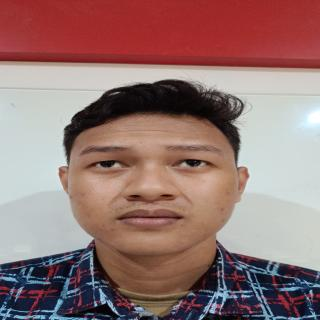Takut: (65, 114, 247, 261)
